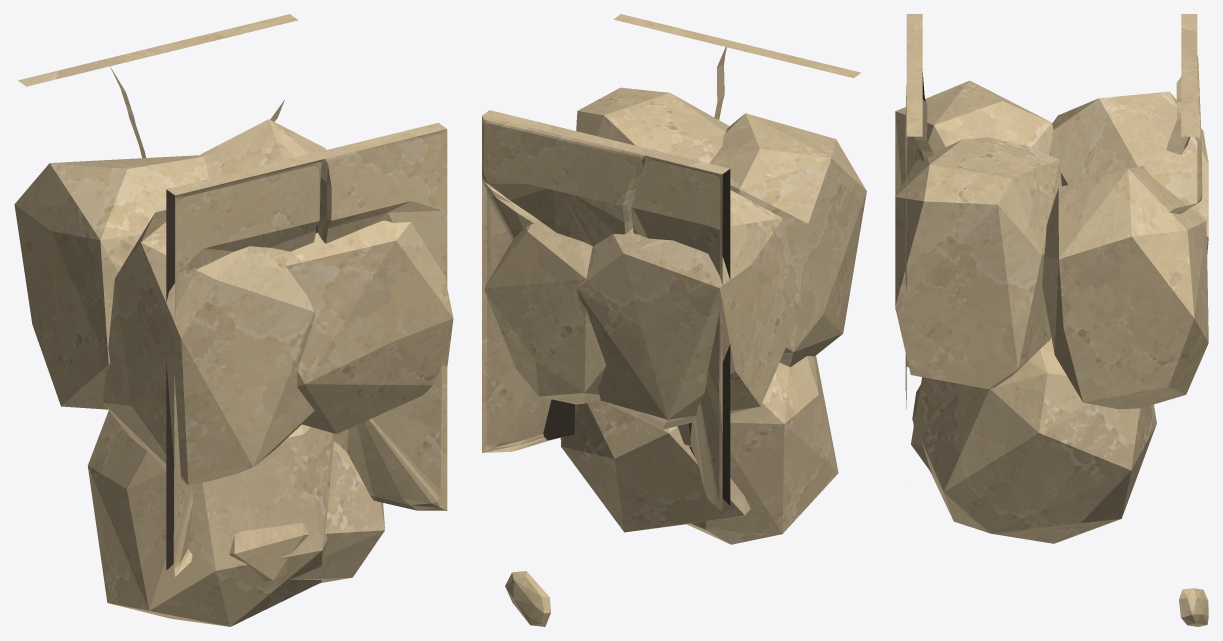
Rendered from ground_bottom_square_strip_10.glb.
3 renders of one model, left to right at view 1: azimuth 30°, elevation 25°; view 2: azimuth 150°, elevation 25°; view 3: azimuth 270°, elevation 25°, orthographic. The views are drawn at different scales.
Parts seen in each view (by area): view 1: GroundBottomSquareStrip10_Body; view 2: GroundBottomSquareStrip10_Body; view 3: GroundBottomSquareStrip10_Body.
Part boxes in pixels (left/top/right/bottom): GroundBottomSquareStrip10_Body: left=14, top=14, right=453, bottom=626; GroundBottomSquareStrip10_Body: left=482, top=14, right=866, bottom=626; GroundBottomSquareStrip10_Body: left=895, top=14, right=1208, bottom=626.
Bounding box in the file's own units: 1 × 1.97 × 1.08.
Materials: 9 (8 with a texture image).
